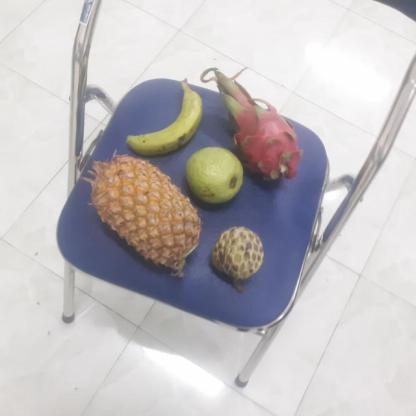annona: (206, 226, 262, 282)
banana: (123, 80, 201, 156)
guava: (182, 147, 244, 205)
pineapple: (85, 157, 200, 271)
pitaya: (219, 96, 300, 181)
